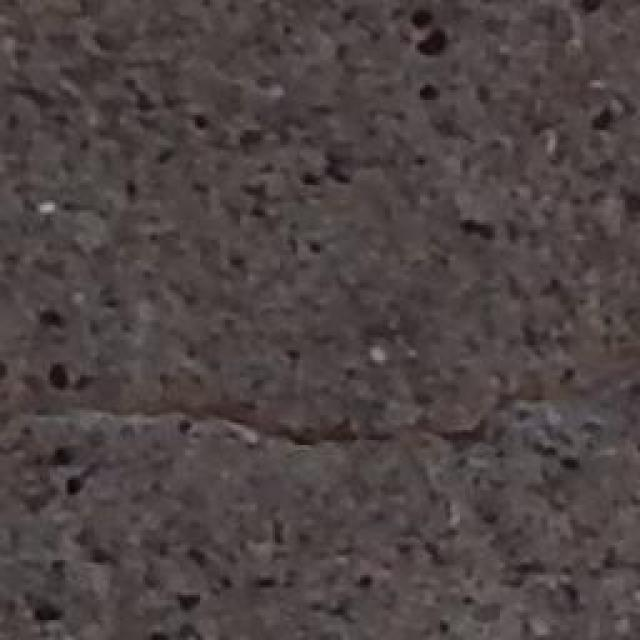concrete-crack: (0, 390, 542, 552)
